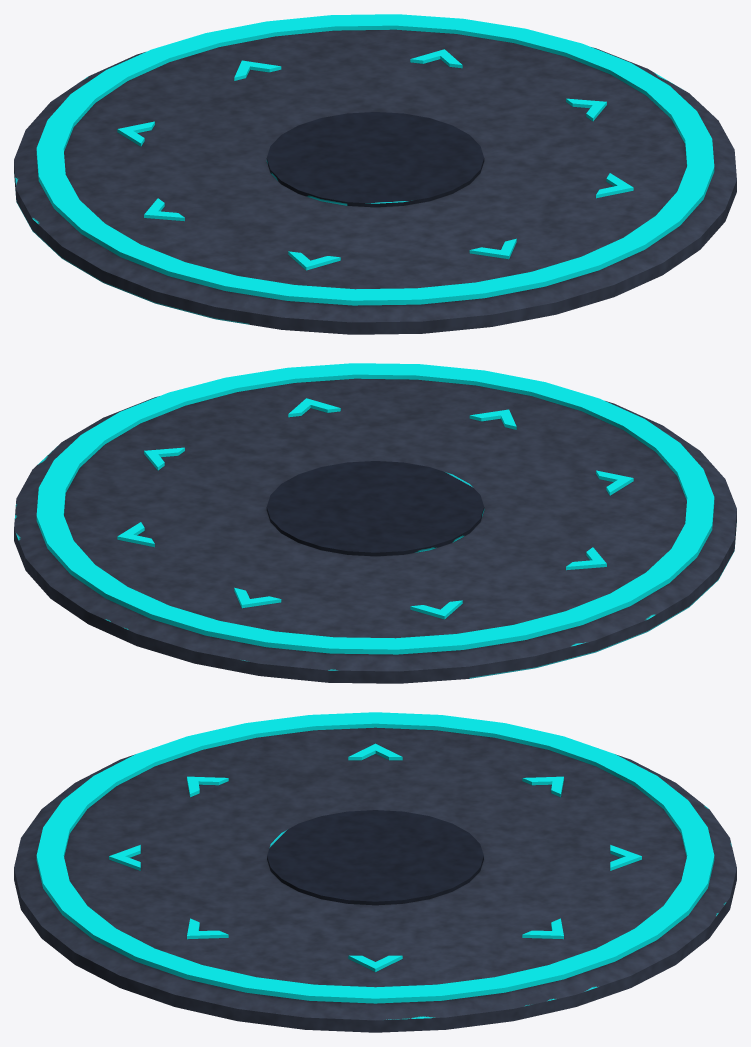
The model's file is lift_ring.fbx.
3 views of the same model, one above another, from view 1: azimuth 30°, elevation 25°; view 2: azimuth 150°, elevation 25°; view 3: azimuth 270°, elevation 25° (orthographic).
Visible parts, largest first — view 1: lift_ring, lift_ring_glow; view 2: lift_ring, lift_ring_glow; view 3: lift_ring, lift_ring_glow.
Boxes of the visible parts, box(x1,y1,x2,y2) form: lift_ring: box(14, 29, 736, 334); lift_ring_glow: box(36, 14, 714, 305); lift_ring: box(14, 378, 736, 683); lift_ring_glow: box(36, 363, 714, 654); lift_ring: box(14, 727, 736, 1032); lift_ring_glow: box(36, 712, 714, 1003).
Size of the model in its own units: 800 by 30 by 800.
1 material, 1 textured.
